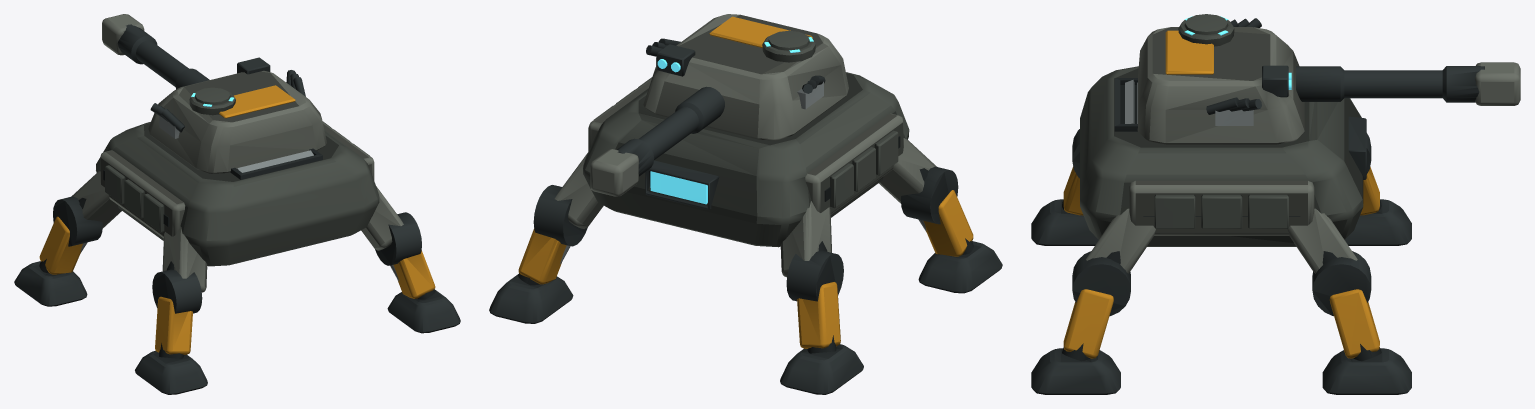
File: CombatRobot.glb
The picture shows the model from 3 angles, left to right: view 1: azimuth 30°, elevation 25°; view 2: azimuth 150°, elevation 25°; view 3: azimuth 270°, elevation 25°; orthographic projection. The views are drawn at different scales.
Visible parts, largest first — view 1: export_CombatRobot_Body, export_CombatRobot_TurretRing, export_CombatRobot_Joint, export_CombatRobot_Cannon, export_CombatRobot_Joint.001, export_CombatRobot_Joint.002, export_CombatRobot_Foot, export_CombatRobot_Foot.002, export_CombatRobot_Foot.001, export_CombatRobot_HipDrum, export_CombatRobot_HipDrum.001, export_CombatRobot_HipDrum.002; view 2: export_CombatRobot_Body, export_CombatRobot_TurretRing, export_CombatRobot_Cannon, export_CombatRobot_Joint.001, export_CombatRobot_Joint, export_CombatRobot_Joint.003, export_CombatRobot_Foot.001, export_CombatRobot_Foot.003, export_CombatRobot_Foot, export_CombatRobot_HipDrum.001, export_CombatRobot_HipDrum, export_CombatRobot_HipDrum.003; view 3: export_CombatRobot_Body, export_CombatRobot_TurretRing, export_CombatRobot_Cannon, export_CombatRobot_Joint.003, export_CombatRobot_Joint.002, export_CombatRobot_Foot.003, export_CombatRobot_Foot.002, export_CombatRobot_HipDrum.003, export_CombatRobot_HipDrum.002, export_CombatRobot_Foot, export_CombatRobot_Foot.001, export_CombatRobot_Joint (+1 smaller).
Part boxes in pixels (bbox=[...]): export_CombatRobot_Body: bbox=[96, 121, 379, 266]; export_CombatRobot_TurretRing: bbox=[148, 57, 326, 173]; export_CombatRobot_Joint: bbox=[152, 269, 202, 358]; export_CombatRobot_Cannon: bbox=[102, 14, 209, 89]; export_CombatRobot_Joint.001: bbox=[39, 196, 102, 274]; export_CombatRobot_Joint.002: bbox=[375, 212, 435, 299]; export_CombatRobot_Foot: bbox=[135, 351, 207, 394]; export_CombatRobot_Foot.002: bbox=[387, 290, 460, 333]; export_CombatRobot_Foot.001: bbox=[14, 261, 87, 306]; export_CombatRobot_HipDrum: bbox=[162, 226, 207, 292]; export_CombatRobot_HipDrum.001: bbox=[71, 171, 121, 228]; export_CombatRobot_HipDrum.002: bbox=[361, 186, 403, 250]; export_CombatRobot_Body: bbox=[583, 72, 909, 247]; export_CombatRobot_TurretRing: bbox=[643, 14, 848, 140]; export_CombatRobot_Cannon: bbox=[590, 86, 724, 196]; export_CombatRobot_Joint.001: bbox=[786, 250, 843, 353]; export_CombatRobot_Joint: bbox=[901, 166, 973, 256]; export_CombatRobot_Joint.003: bbox=[518, 185, 587, 285]; export_CombatRobot_Foot.001: bbox=[780, 344, 863, 394]; export_CombatRobot_Foot.003: bbox=[489, 274, 573, 323]; export_CombatRobot_Foot: bbox=[918, 241, 1002, 293]; export_CombatRobot_HipDrum.001: bbox=[780, 201, 831, 277]; export_CombatRobot_HipDrum: bbox=[879, 138, 936, 203]; export_CombatRobot_HipDrum.003: bbox=[554, 153, 603, 228]; export_CombatRobot_Body: bbox=[1080, 66, 1366, 246]; export_CombatRobot_TurretRing: bbox=[1137, 14, 1304, 144]; export_CombatRobot_Cannon: bbox=[1296, 62, 1520, 105]; export_CombatRobot_Joint.003: bbox=[1312, 251, 1381, 361]; export_CombatRobot_Joint.002: bbox=[1062, 251, 1130, 361]; export_CombatRobot_Foot.003: bbox=[1322, 348, 1411, 394]; export_CombatRobot_Foot.002: bbox=[1031, 348, 1120, 394]; export_CombatRobot_HipDrum.003: bbox=[1287, 208, 1357, 273]; export_CombatRobot_HipDrum.002: bbox=[1086, 208, 1155, 273]; export_CombatRobot_Foot: bbox=[1031, 199, 1098, 245]; export_CombatRobot_Foot.001: bbox=[1345, 199, 1411, 245]; export_CombatRobot_Joint: bbox=[1062, 129, 1083, 215].
Size of the model in its own units: 3.27 by 2.31 by 3.83.
